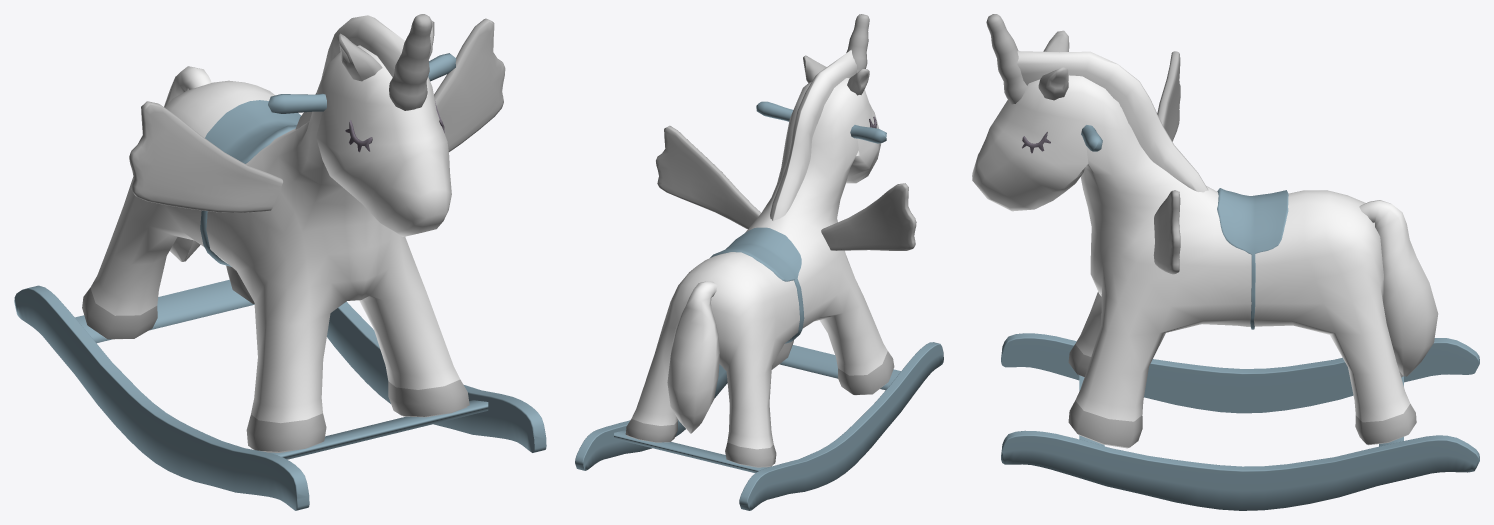
File: Plush_Rocking_Unicon.fbx
3 views of the same model, side by side, from view 1: azimuth 30°, elevation 25°; view 2: azimuth 150°, elevation 25°; view 3: azimuth 270°, elevation 25° (orthographic). The views are drawn at different scales.
Visible parts, largest first — view 1: Plush_Rocking_Unicon; view 2: Plush_Rocking_Unicon; view 3: Plush_Rocking_Unicon.
Boxes of the visible parts, bbox=[...] form: Plush_Rocking_Unicon: bbox=[14, 14, 546, 510]; Plush_Rocking_Unicon: bbox=[575, 14, 943, 510]; Plush_Rocking_Unicon: bbox=[972, 14, 1479, 510].
Size of the model in its own units: 19.93 by 26.74 by 27.78.
Materials: 1 (1 with a texture image).
